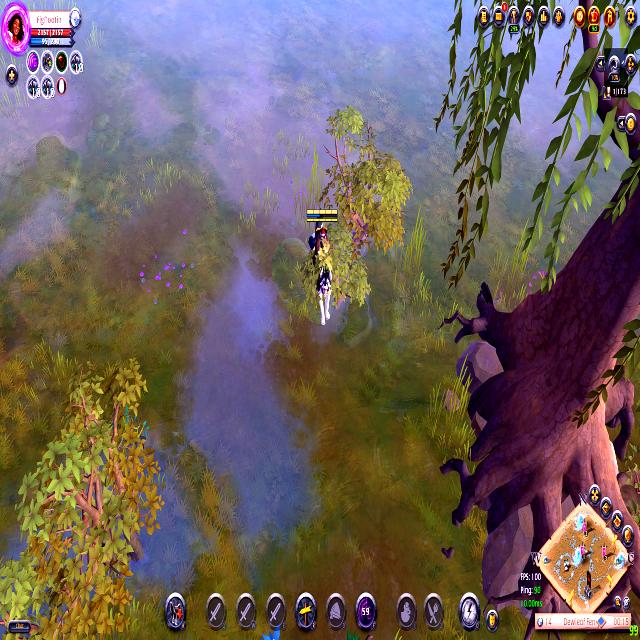red: (298, 196, 348, 336)
